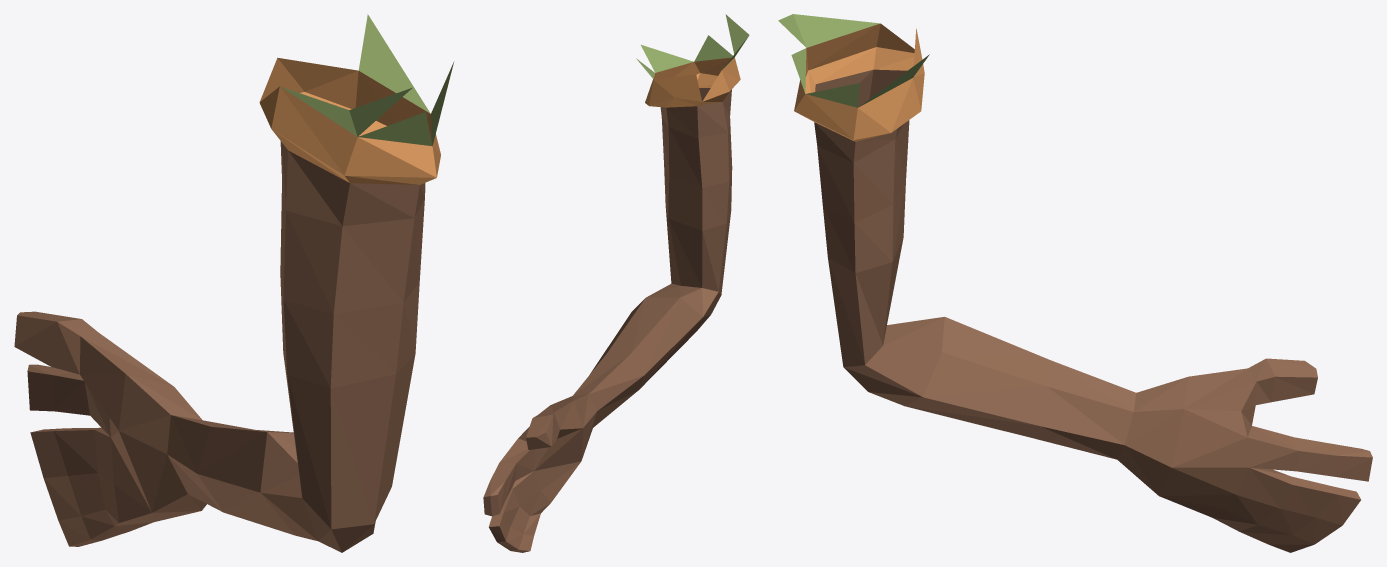
Rendered from Mother_01_ArmR_72_03_C.obj.
3 views of the same model, side by side, from view 1: azimuth 30°, elevation 25°; view 2: azimuth 150°, elevation 25°; view 3: azimuth 270°, elevation 25° (orthographic). The views are drawn at different scales.
Parts seen in each view (by area): view 1: Mother_01_ArmR_72_03_C; view 2: Mother_01_ArmR_72_03_C; view 3: Mother_01_ArmR_72_03_C.
Boxes of the visible parts, x1,y1,x2,y2 form: Mother_01_ArmR_72_03_C: (14, 14, 454, 552); Mother_01_ArmR_72_03_C: (483, 14, 749, 552); Mother_01_ArmR_72_03_C: (778, 14, 1372, 552).
Size of the model in its own units: 0.1419 by 0.5667 by 0.58.
Materials: 1 (1 with a texture image).
